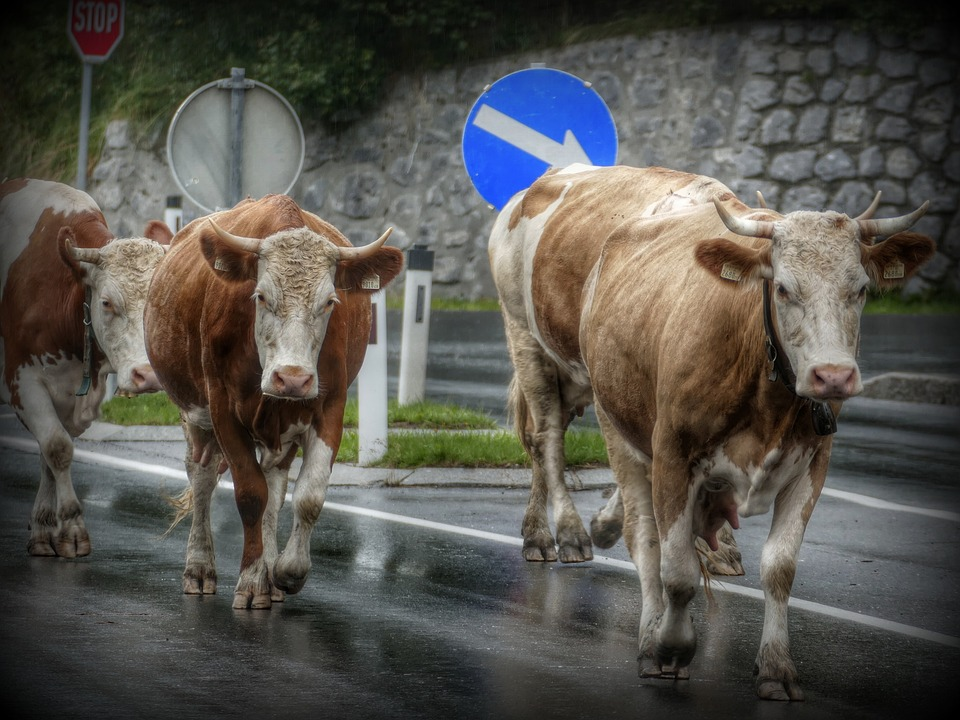inek: (481, 165, 897, 714), (123, 186, 423, 625), (2, 162, 160, 569)
